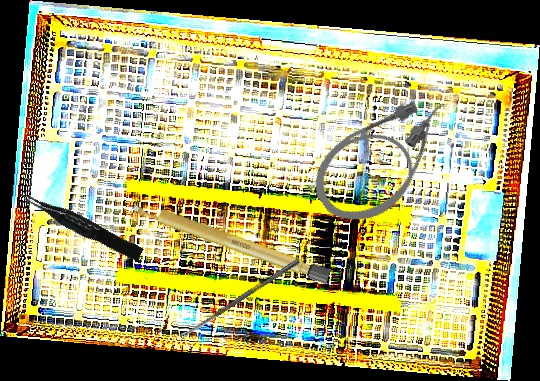Cannula: (299, 80, 475, 239)
Scalpel Handle: (128, 197, 332, 285)
Surgical Spoon: (177, 257, 301, 341)
Tissue Forceps: (22, 184, 144, 267)
